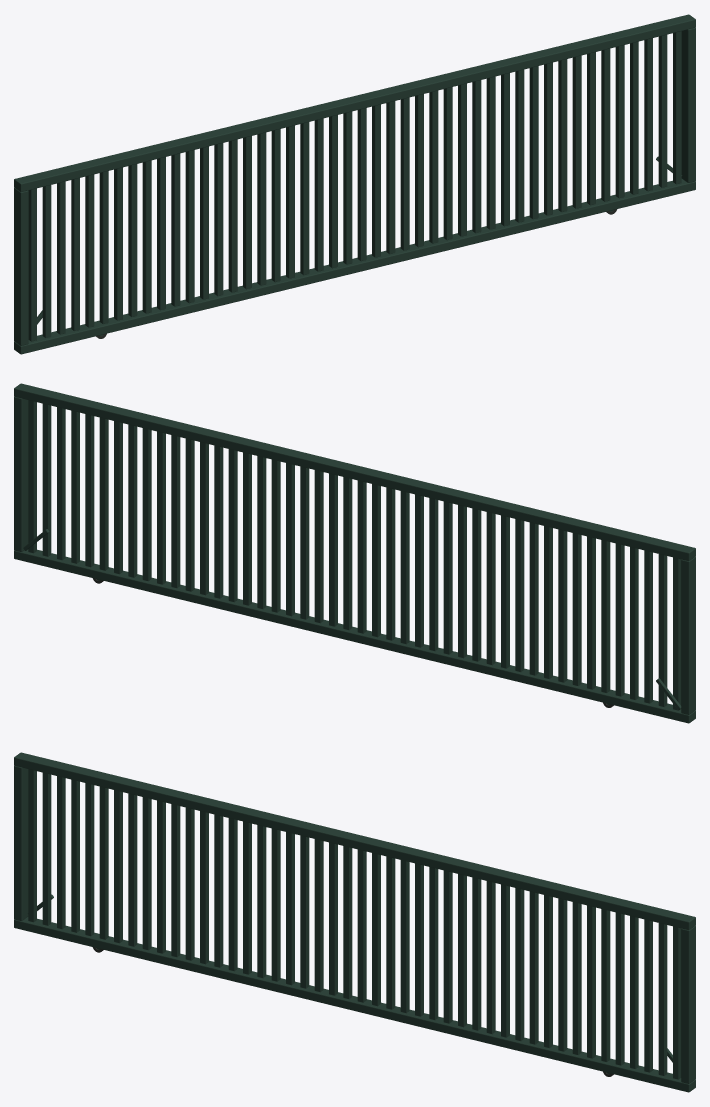
The model's file is gate.glb.
3 renders of one model, top to bottom at view 1: azimuth 30°, elevation 25°; view 2: azimuth 150°, elevation 25°; view 3: azimuth 330°, elevation 25°, orthographic.
Visible parts, largest first — view 1: gate-Site Gate metal; view 2: gate-Site Gate metal; view 3: gate-Site Gate metal.
Part boxes in pixels (left/top/right/bottom): gate-Site Gate metal: left=14, top=14, right=695, bottom=354; gate-Site Gate metal: left=14, top=383, right=695, bottom=723; gate-Site Gate metal: left=14, top=752, right=695, bottom=1092.
Bounding box in the file's own units: 6.62 × 1.65 × 0.12.
